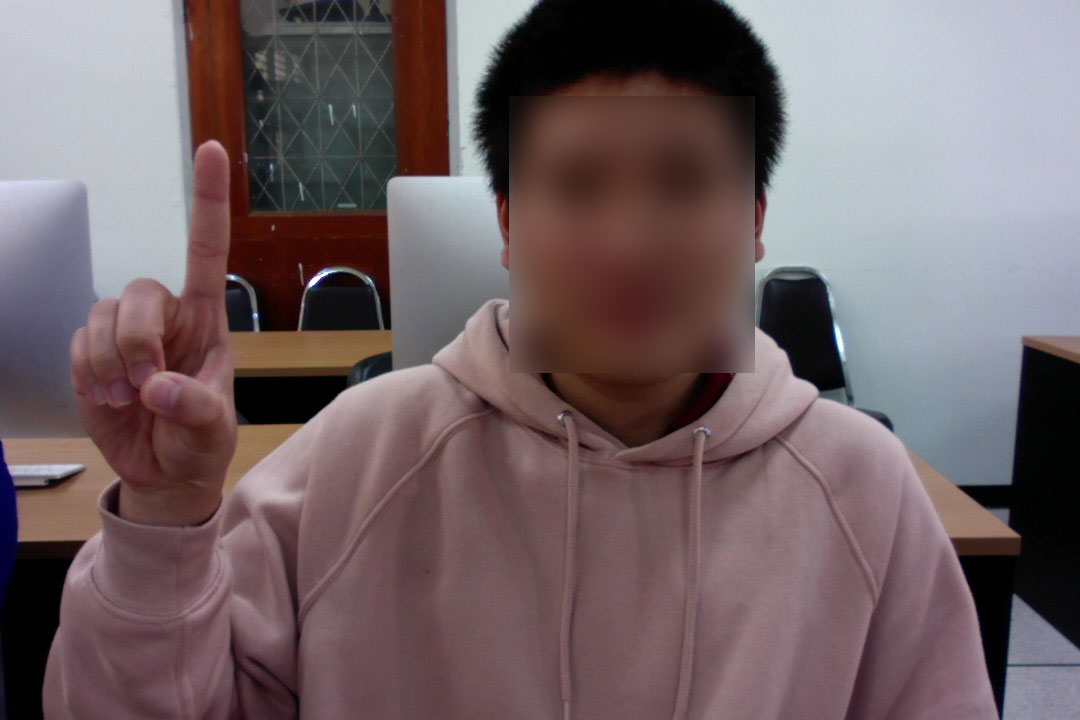dor: (67, 137, 236, 532)
